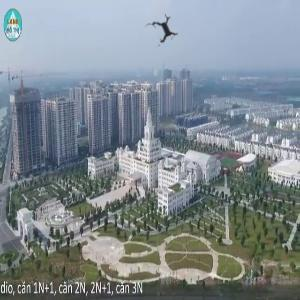drone: (135, 2, 194, 61)
